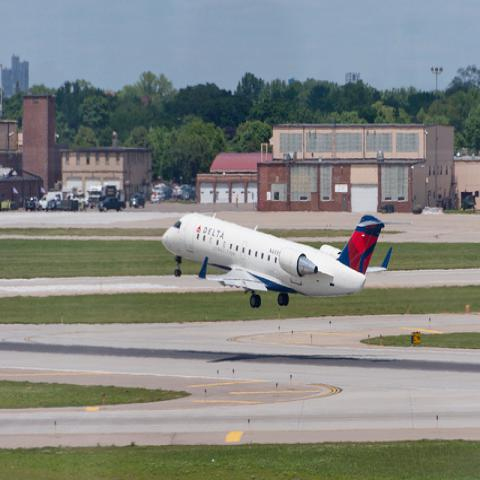car: (130, 193, 146, 208), (180, 188, 196, 201), (171, 186, 183, 198), (46, 200, 56, 212)
truck: (96, 197, 126, 212), (24, 196, 42, 212)
